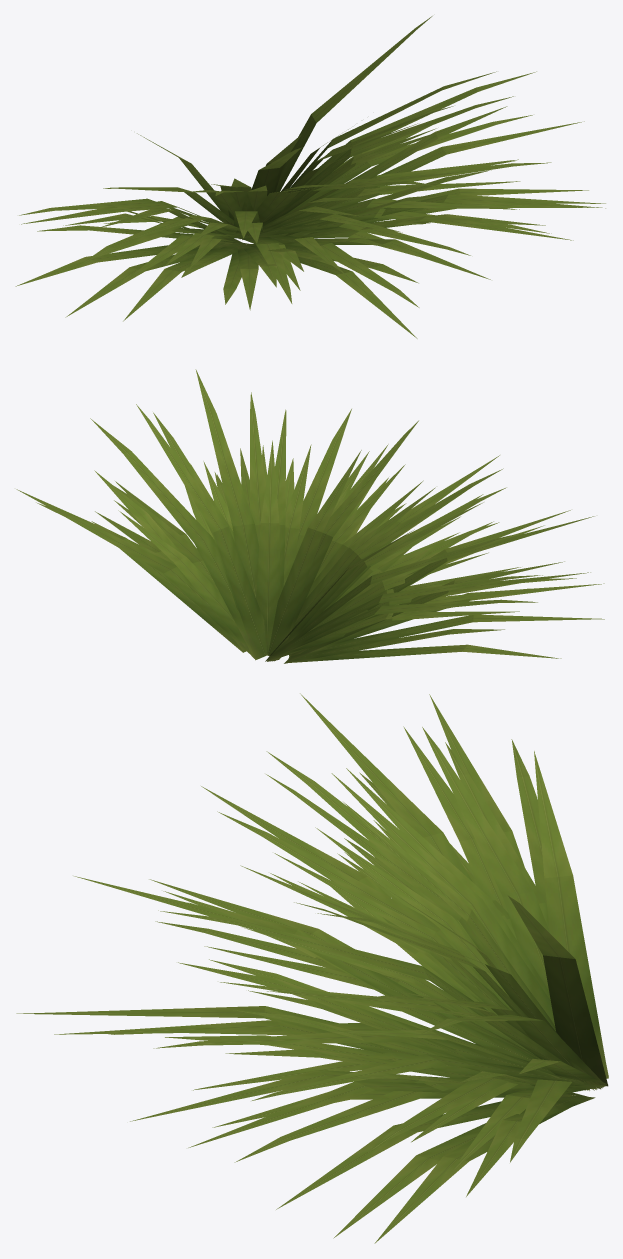
The model's file is Grass_01.obj.
The picture shows the model from 3 angles, top to bottom: view 1: azimuth 30°, elevation 25°; view 2: azimuth 150°, elevation 25°; view 3: azimuth 270°, elevation 25°; orthographic projection. The views are drawn at different scales.
Bounding box in the file's own units: 1.75 × 0.5801 × 1.02.
